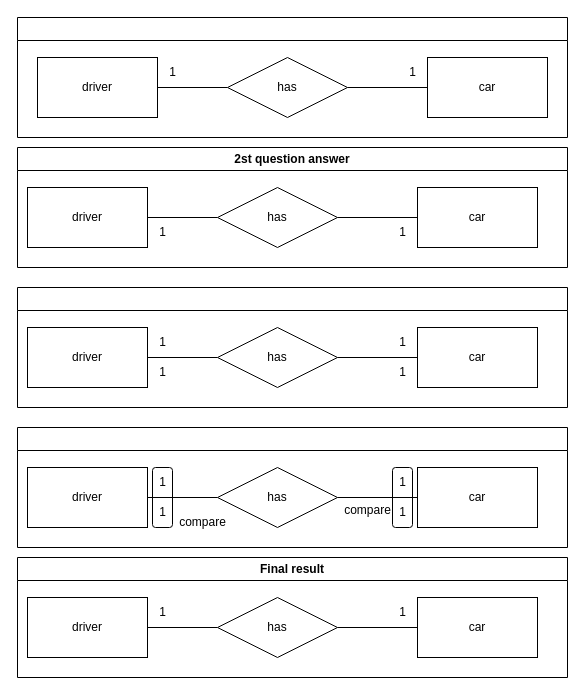
The diagram is 585 pixels wide and 695 high, and some of its shapes have lost their labels. Each missing label, with the box of its shape:
1st question answer: (16, 16, 568, 138)
mix the answers: (16, 286, 568, 408)
mix the answers and compare: (16, 426, 568, 548)
